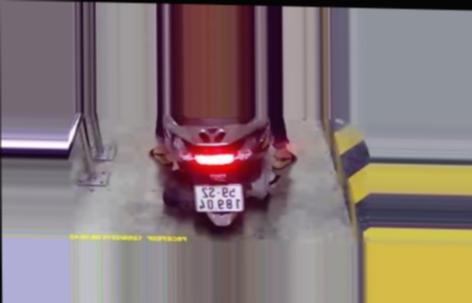License_Plate: (191, 181, 248, 218)
